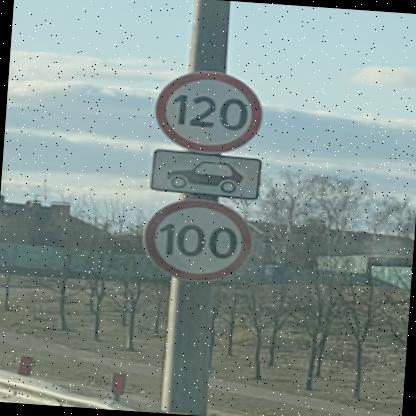speedlimit: (139, 192, 253, 283), (150, 66, 262, 154)
